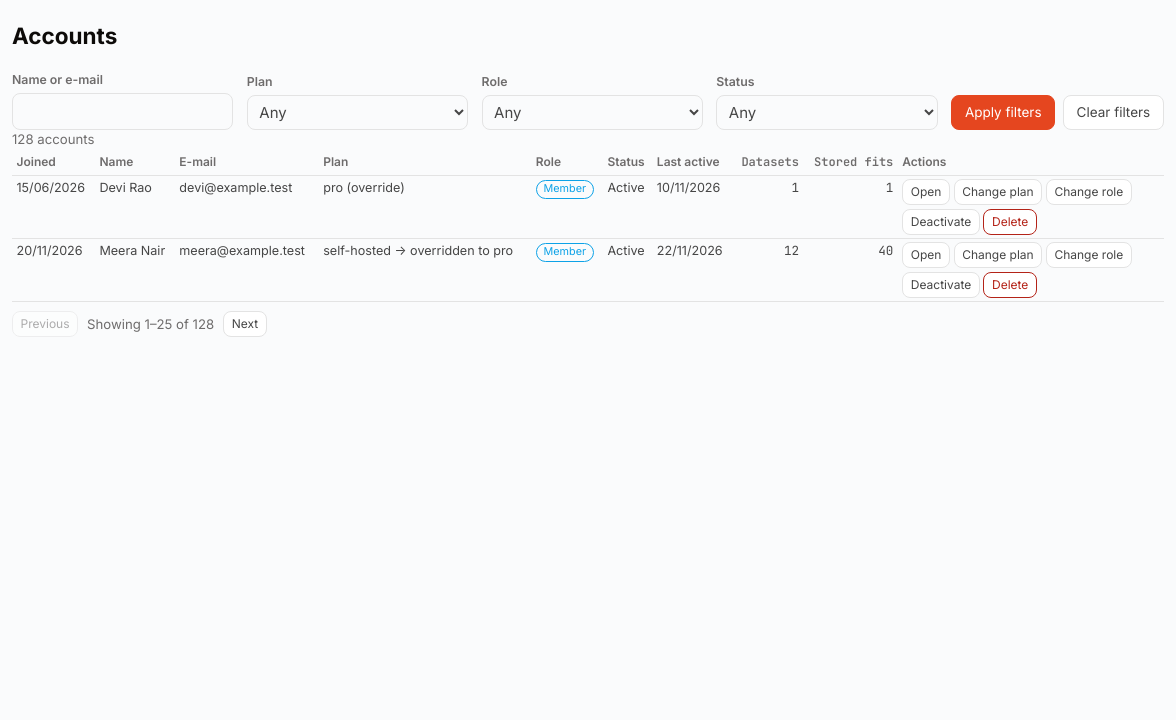
Test case: UsersPage — the list › marks a plan override while it is in force, not only when it names another plan
Expected: the table named "Accounts" is shown, [12,150,1164,302]
# And in the account's detail.
Click the button with aria-label "Open devi@example.test": click(926, 192) [902,179,950,205]
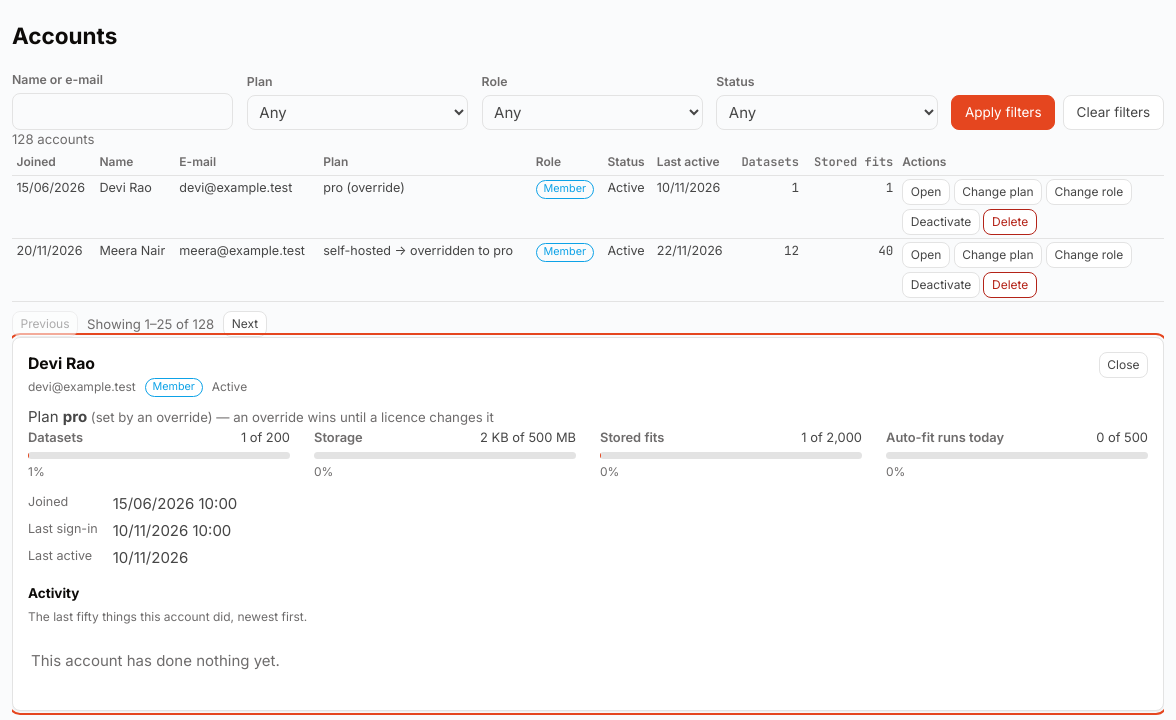
Expected: the text "set by an override" is shown, [91,409,212,425]
